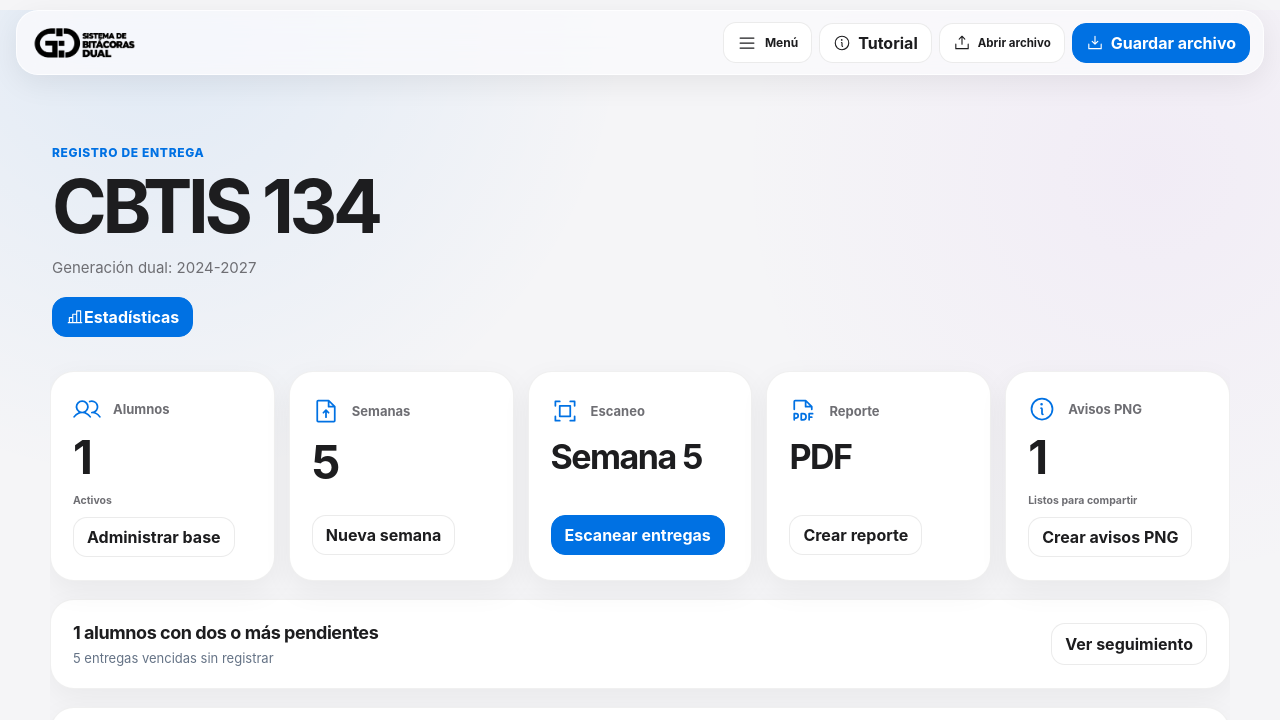
Test: Restauración web de escritorio sin afectar la app móvil › el menú rápido de escritorio no modifica el ancho y se abre por demanda
Click the button with aria-label "Abrir accesos rápidos": (768, 42) [723,22,812,63]
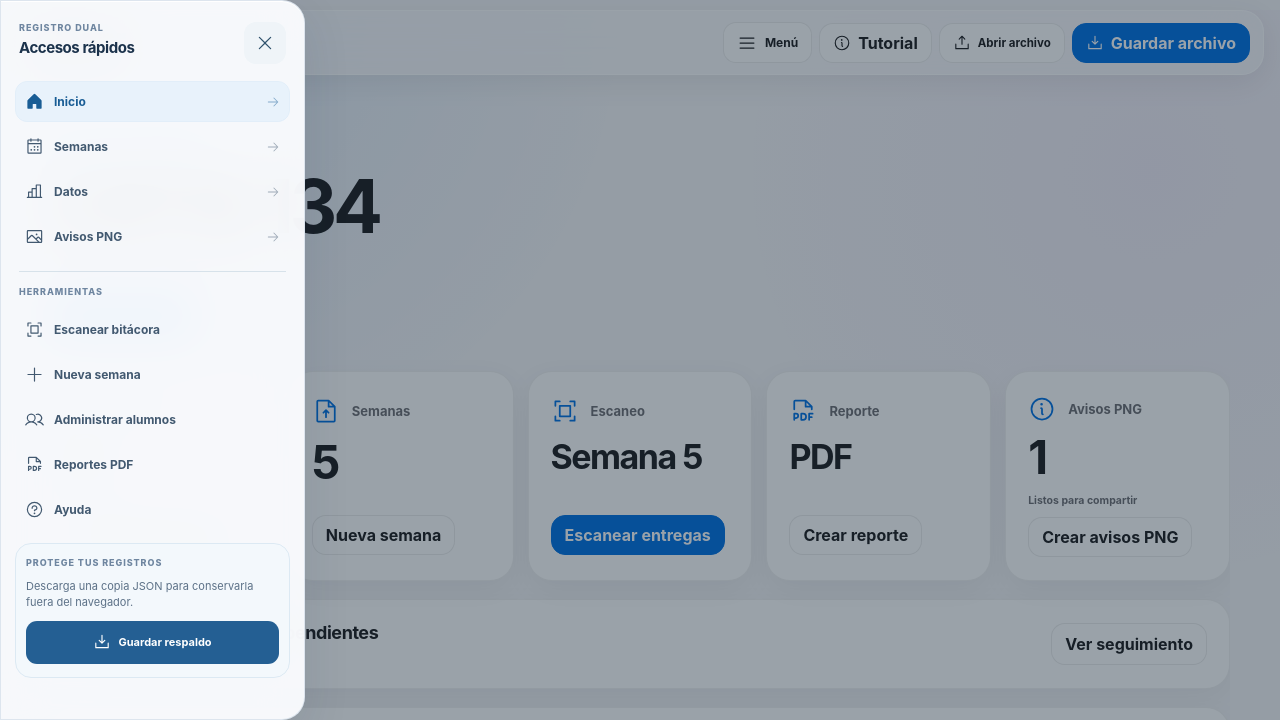
Result: the element with class "delivery-quick-open" is shown at [0,0,305,719]
Click the button named "Cerrar barra lateral": (265, 43) [244,22,286,64]
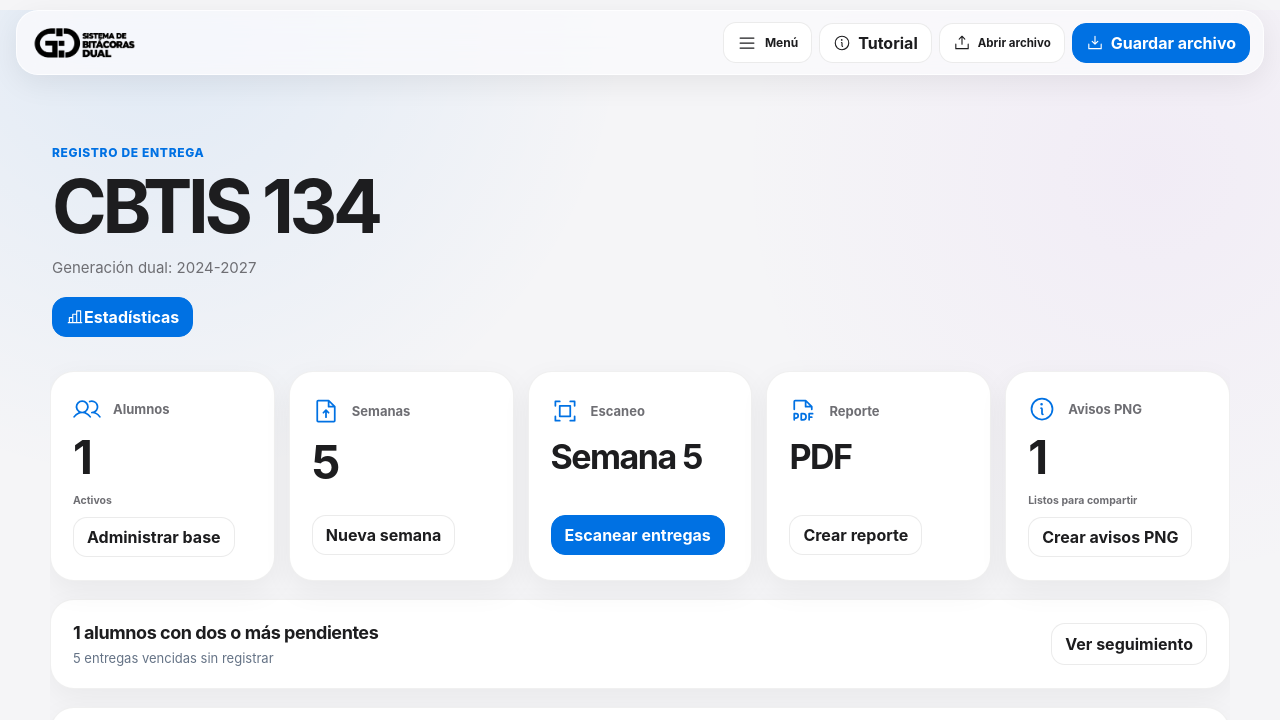
Result: the element with class "delivery-quick-open" is gone
